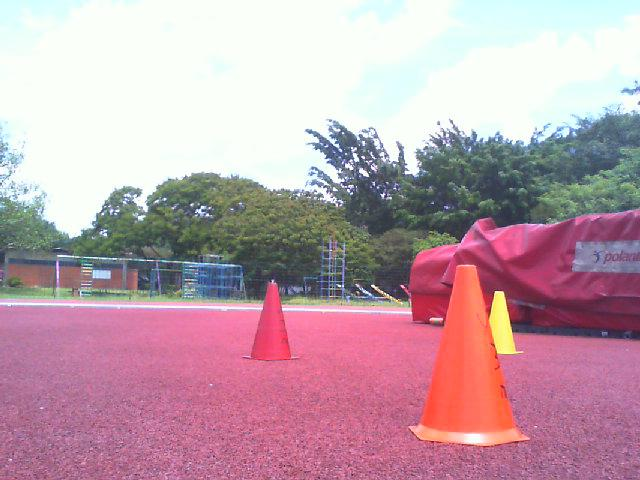0 cone: (408, 265, 530, 446), (242, 283, 300, 361), (488, 291, 524, 354)
